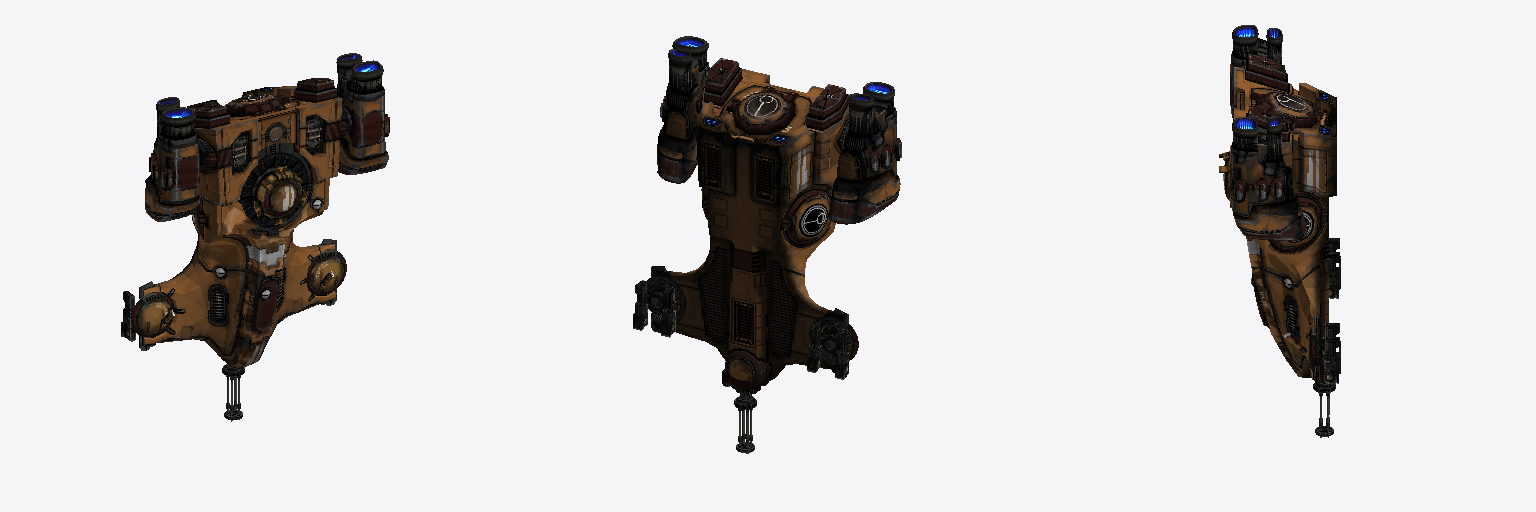
The picture shows the model from 3 angles: view 1: azimuth 30°, elevation 25°; view 2: azimuth 150°, elevation 25°; view 3: azimuth 270°, elevation 25°; orthographic projection.
Parts seen in each view (by area): view 1: Object.1, Object.2, Object.4; view 2: Object.1, Object.2, Object.4, Object.6, Object.5; view 3: Object.1, Object.2, Object.4, Object.6.
Boxes of the visible parts, x1=… form: Object.1: x1=139, y1=78, x2=341, y2=366; Object.2: x1=145, y1=53, x2=389, y2=221; Object.4: x1=131, y1=166, x2=346, y2=421; Object.1: x1=651, y1=58, x2=848, y2=385; Object.2: x1=657, y1=36, x2=901, y2=224; Object.4: x1=647, y1=278, x2=858, y2=453; Object.6: x1=633, y1=280, x2=850, y2=379; Object.5: x1=722, y1=351, x2=770, y2=393; Object.1: x1=1234, y1=54, x2=1336, y2=387; Object.2: x1=1230, y1=25, x2=1306, y2=240; Object.4: x1=1219, y1=146, x2=1335, y2=437; Object.6: x1=1323, y1=238, x2=1340, y2=383.
Bounding box in the file's own units: 668503 × 993256 × 306888.
Materials: 7 (6 with a texture image).